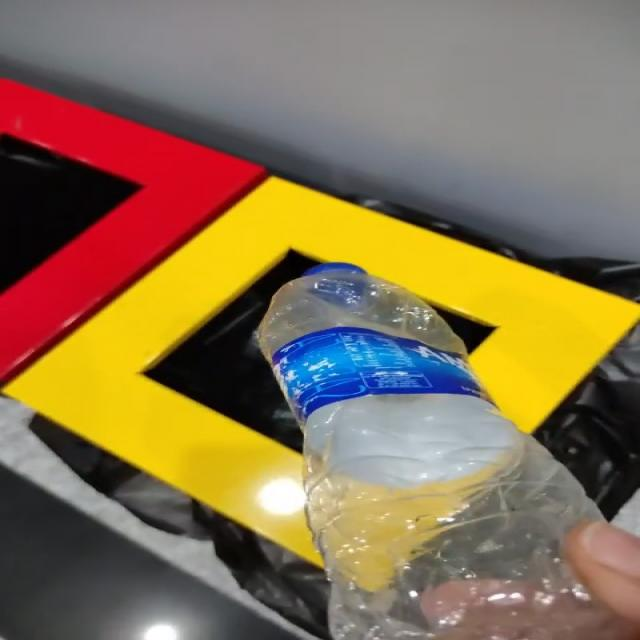plastic: (259, 263, 636, 640)
